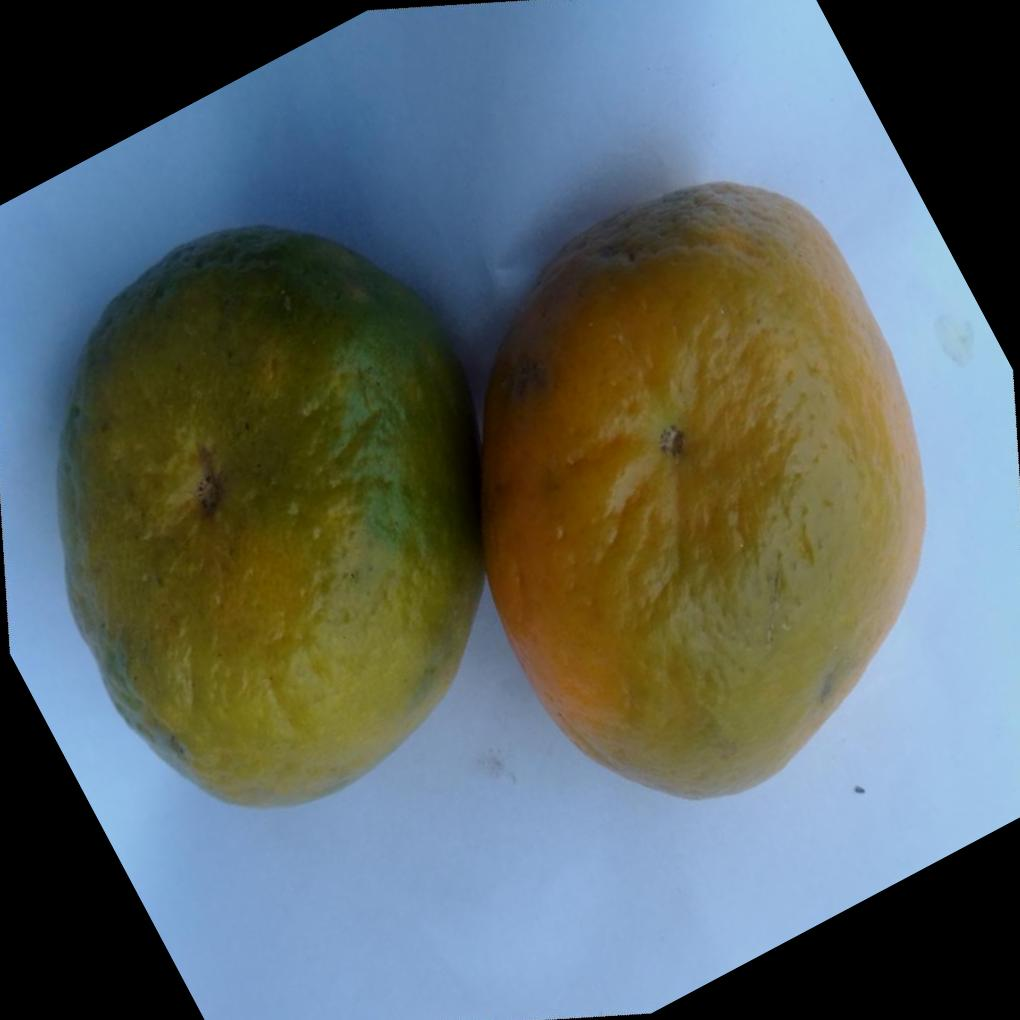FreshGuava: (54, 174, 926, 807)
